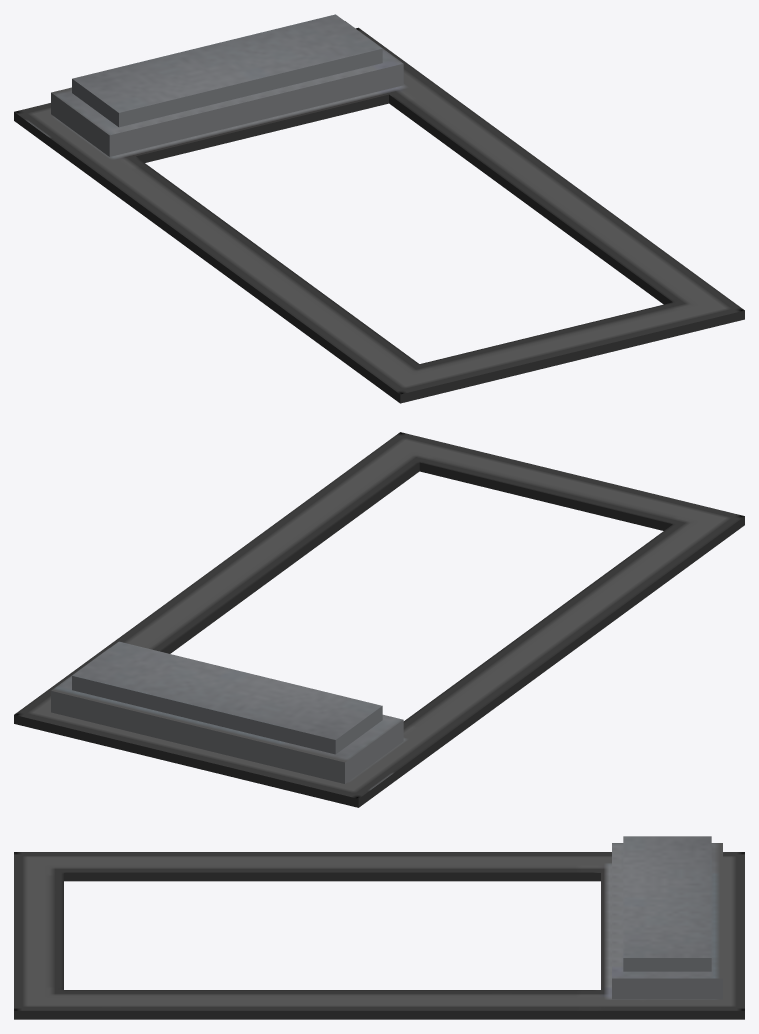
File: Building_SleepingSpot.obj
The picture shows the model from 3 angles, top to bottom: view 1: azimuth 30°, elevation 25°; view 2: azimuth 150°, elevation 25°; view 3: azimuth 270°, elevation 25°; orthographic projection. The views are drawn at different scales.
Parts seen in each view (by area): view 1: Body; view 2: Body; view 3: Body.
Boxes of the visible parts, x1=… form: Body: x1=14, y1=14, x2=744, y2=403; Body: x1=14, y1=432, x2=744, y2=807; Body: x1=14, y1=836, x2=744, y2=1019.
Bounding box in the file's own units: 1 × 0.125 × 1.94.
Materials: 1 (1 with a texture image).
